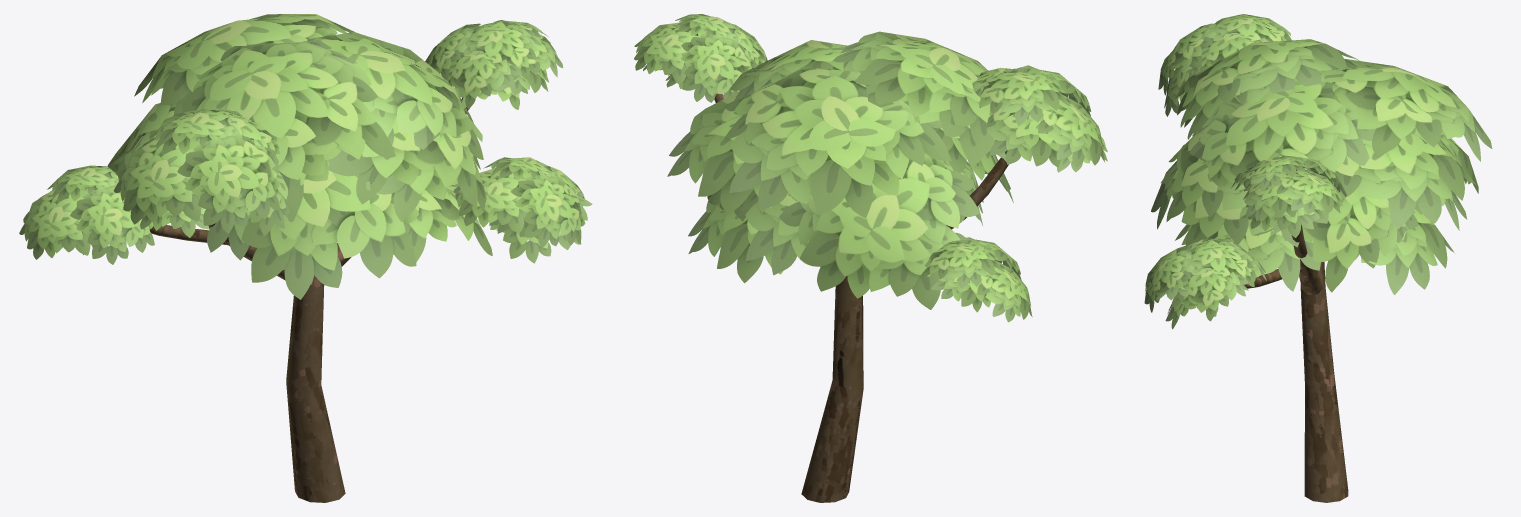
File: tree_5.glb
3 views of the same model, side by side, from view 1: azimuth 30°, elevation 25°; view 2: azimuth 150°, elevation 25°; view 3: azimuth 270°, elevation 25° (orthographic). The views are drawn at different scales.
Visible parts, largest first — view 1: Tree_5; view 2: Tree_5; view 3: Tree_5.
Part boxes in pixels (x1=…): Tree_5: x1=19, y1=14, x2=592, y2=502; Tree_5: x1=634, y1=14, x2=1107, y2=502; Tree_5: x1=1144, y1=14, x2=1492, y2=502.
Bounding box in the file's own units: 6.74 × 6.36 × 4.98.
Materials: 2 (2 with a texture image).
